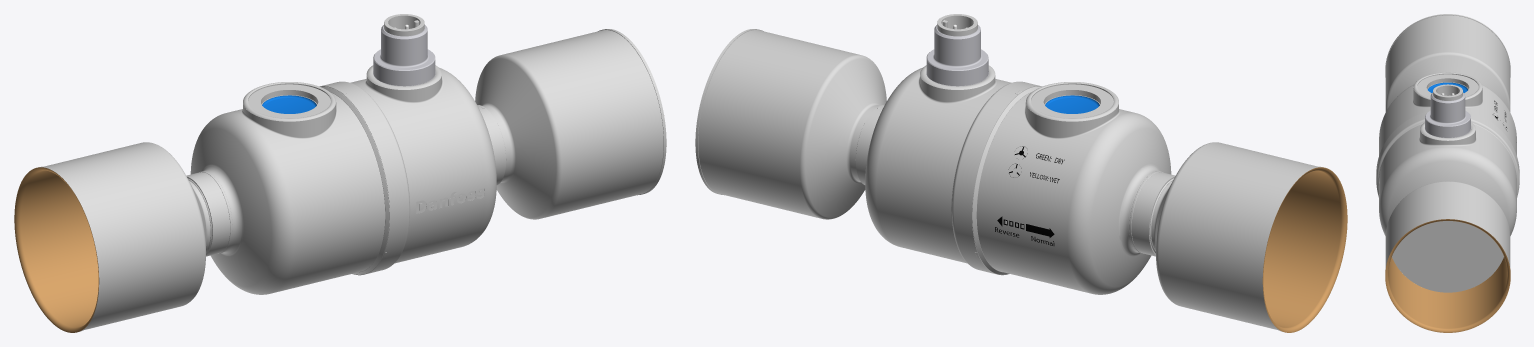
The picture shows the model from 3 angles, left to right: view 1: azimuth 30°, elevation 25°; view 2: azimuth 150°, elevation 25°; view 3: azimuth 270°, elevation 25°; orthographic projection. The views are drawn at different scales.
Visible parts, largest first — view 1: ETS-C-WEB034G7803.IPT.009, ETS-C-WEB034G7803.IPT.007, ETS-C-WEB034G7803.IPT.003, ETS-C-WEB034G7803.IPT.002, ETS-C-WEB034G7803.IPT.006; view 2: ETS-C-WEB034G7803.IPT.009, ETS-C-WEB034G7803.IPT.007, ETS-C-WEB034G7803.IPT.003, ETS-C-WEB034G7803.IPT.002, ETS-C-WEB034G7803.IPT.006, ETS-C-WEB034G7803.IPT.001; view 3: ETS-C-WEB034G7803.IPT.009, ETS-C-WEB034G7803.IPT.007, ETS-C-WEB034G7803.IPT.003, ETS-C-WEB034G7803.IPT.006, ETS-C-WEB034G7803.IPT.002.
Part boxes in pixels (x1=…): ETS-C-WEB034G7803.IPT.009: x1=39, y1=29, x2=666, y2=331; ETS-C-WEB034G7803.IPT.007: x1=14, y1=167, x2=99, y2=332; ETS-C-WEB034G7803.IPT.003: x1=373, y1=25, x2=435, y2=86; ETS-C-WEB034G7803.IPT.002: x1=262, y1=95, x2=316, y2=113; ETS-C-WEB034G7803.IPT.006: x1=384, y1=14, x2=424, y2=36; ETS-C-WEB034G7803.IPT.009: x1=695, y1=29, x2=1322, y2=331; ETS-C-WEB034G7803.IPT.007: x1=1262, y1=167, x2=1347, y2=332; ETS-C-WEB034G7803.IPT.003: x1=926, y1=25, x2=988, y2=86; ETS-C-WEB034G7803.IPT.002: x1=1045, y1=95, x2=1099, y2=113; ETS-C-WEB034G7803.IPT.006: x1=937, y1=14, x2=977, y2=36; ETS-C-WEB034G7803.IPT.001: x1=995, y1=146, x2=1064, y2=245; ETS-C-WEB034G7803.IPT.009: x1=1376, y1=14, x2=1519, y2=292; ETS-C-WEB034G7803.IPT.007: x1=1385, y1=219, x2=1510, y2=332; ETS-C-WEB034G7803.IPT.003: x1=1424, y1=92, x2=1471, y2=137; ETS-C-WEB034G7803.IPT.006: x1=1433, y1=84, x2=1462, y2=100; ETS-C-WEB034G7803.IPT.002: x1=1427, y1=82, x2=1468, y2=92.
Bounding box in the file's own units: 0.169 × 0.0656 × 0.0499.
